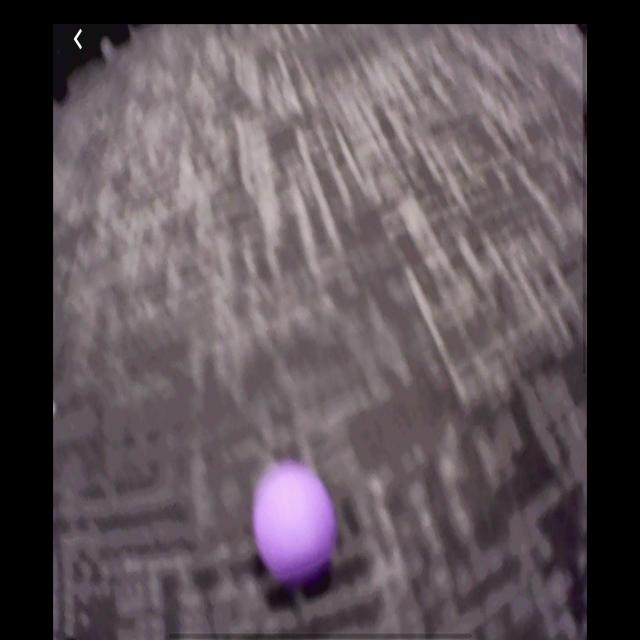ball: (251, 462, 337, 576)
